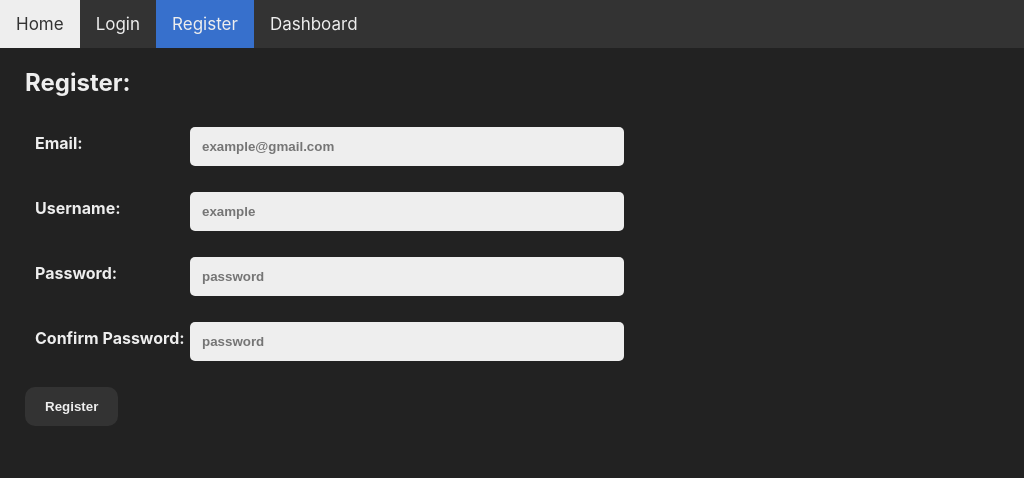
Test case: display error message when user's passwords do not match
# input email, username, password, confirm password
Type "valid@example.com" into the field labelled "Email:".
click(407, 146); type("valid@example.com")  # box [190,127,624,166]
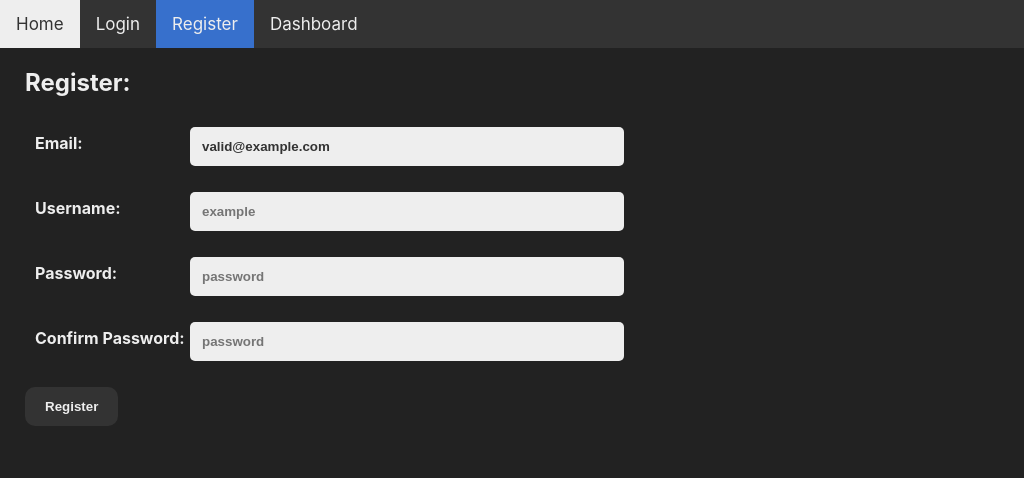
Type "validUsername" into the field labelled "Username:".
click(407, 211); type("validUsername")  # box [190,192,624,231]
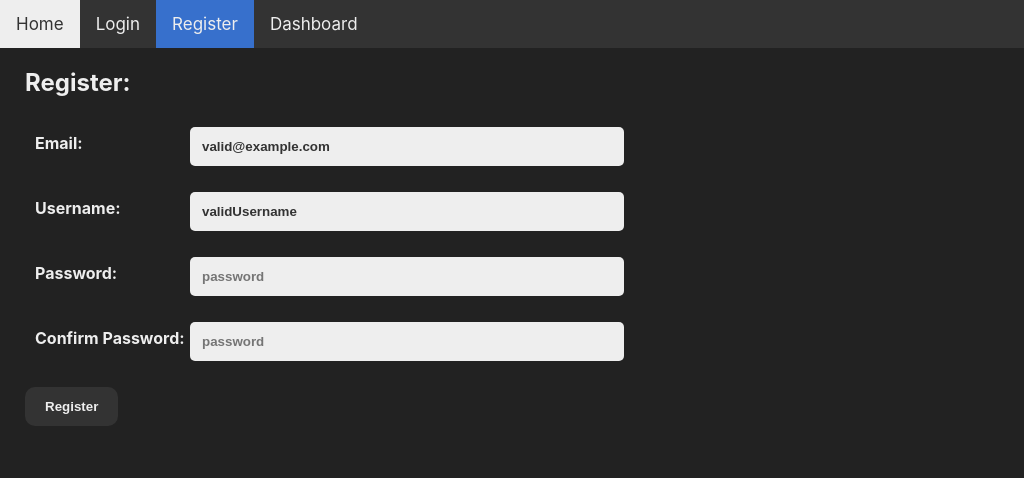
Type "password" into the password field labelled "Password:".
click(407, 276); type("password")  # box [190,257,624,296]
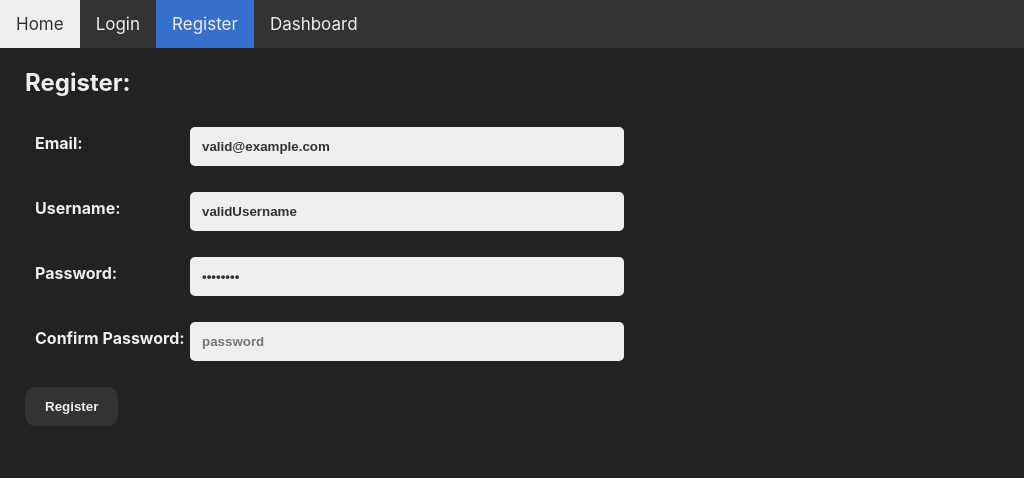
Type "diffPassword" into the password field labelled "Confirm Password:".
click(407, 341); type("diffPassword")  # box [190,322,624,361]
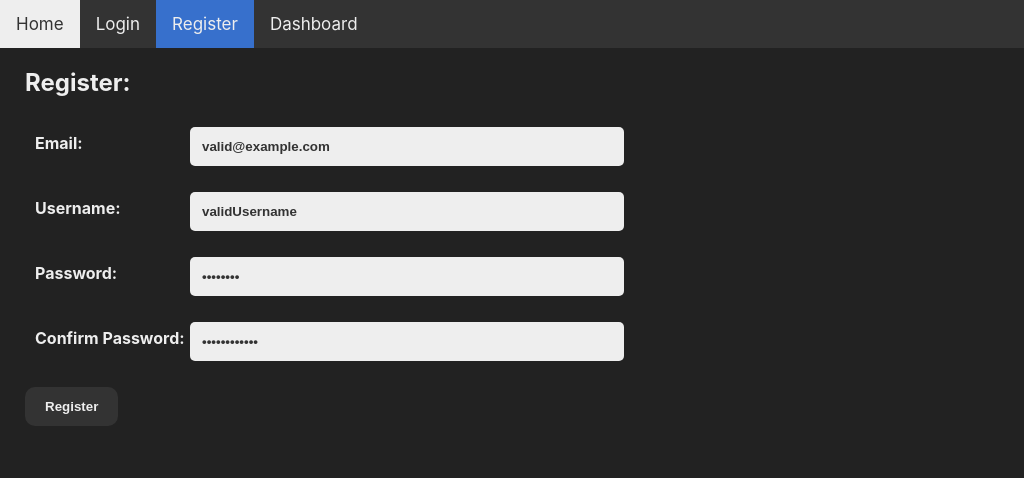
Click the button "Register".
click(72, 406)  # box [25,387,118,426]
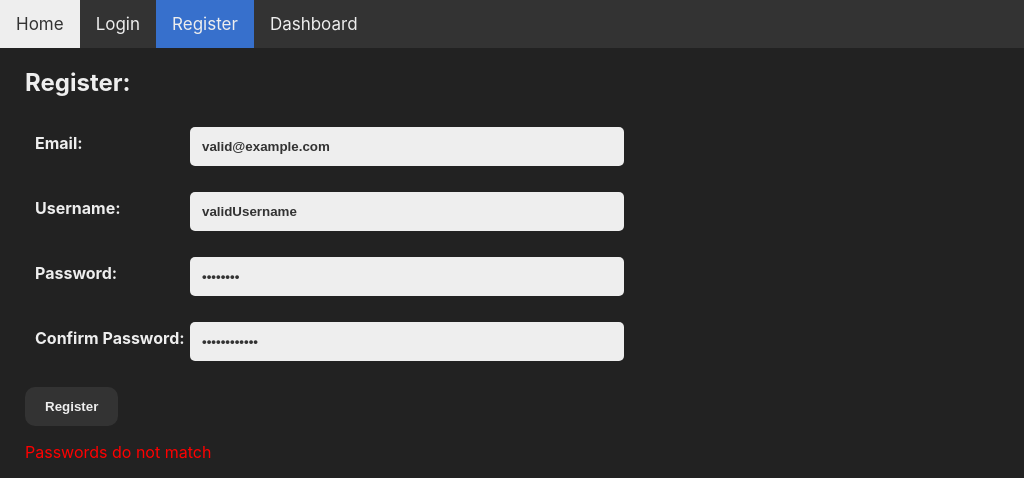
Now the text "Passwords do not match" is shown, box [25,442,211,462]
